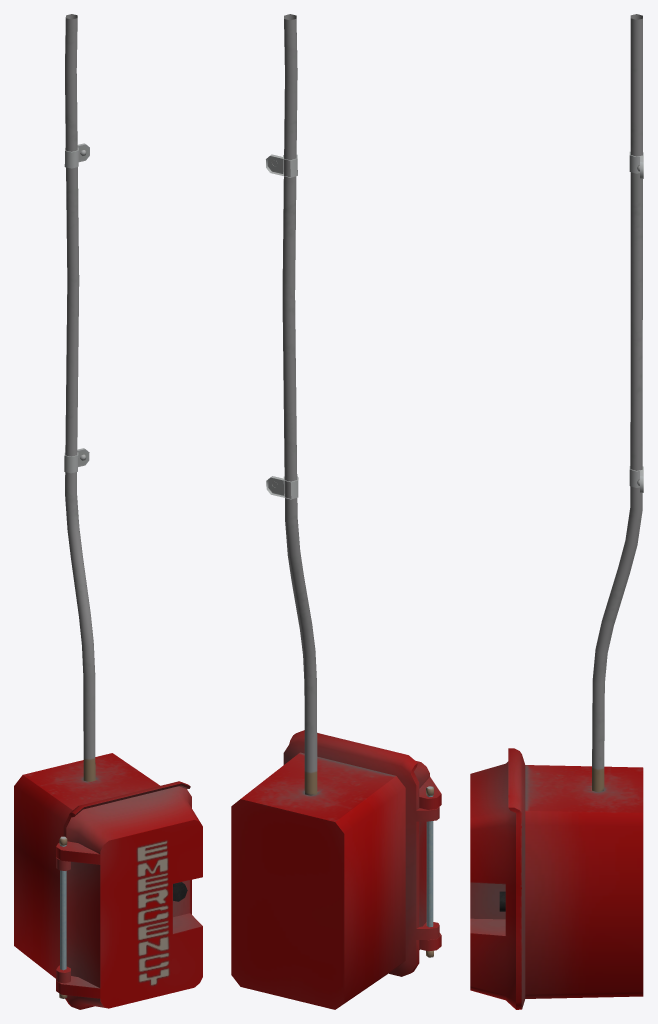
Rendered from FBX_ButtonEmergencyA.fbx.
The picture shows the model from 3 angles, left to right: view 1: azimuth 30°, elevation 25°; view 2: azimuth 150°, elevation 25°; view 3: azimuth 270°, elevation 25°; orthographic projection. The views are drawn at different scales.
Parts seen in each view (by area): view 1: SM_ButtonEmergencyA; view 2: SM_ButtonEmergencyA; view 3: SM_ButtonEmergencyA.
Part boxes in pixels (box(x1,y1,x2,y2)): SM_ButtonEmergencyA: box(14, 14, 202, 1009); SM_ButtonEmergencyA: box(231, 14, 441, 1009); SM_ButtonEmergencyA: box(470, 14, 643, 1009).
Size of the model in its own units: 0.2343 by 1.51 by 0.2447.
